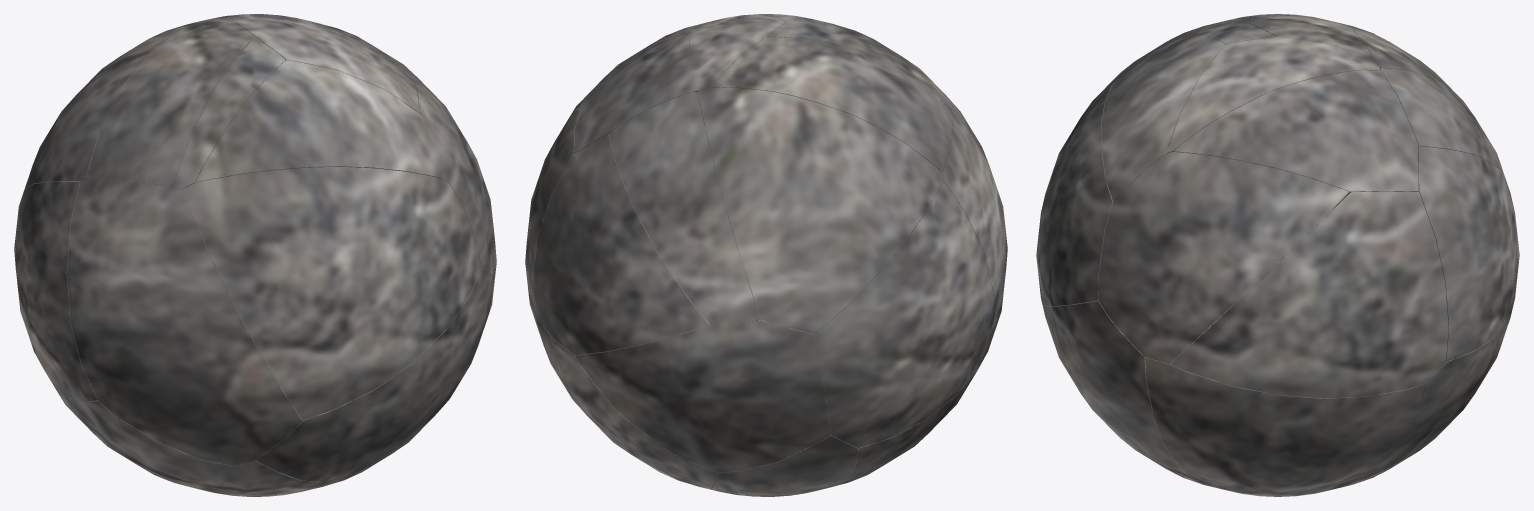
Rendered from stone_parts.glb.
3 renders of one model, left to right at view 1: azimuth 30°, elevation 25°; view 2: azimuth 150°, elevation 25°; view 3: azimuth 270°, elevation 25°, orthographic.
Parts seen in each view (by area): view 1: stone_ball_parts_cell.018, stone_ball_parts_cell.011, stone_ball_parts_cell.009, stone_ball_parts_cell.005, stone_ball_parts_cell.004, stone_ball_parts_cell.008, stone_ball_parts_cell.006, stone_ball_parts_cell.015, stone_ball_parts_cell.014, stone_ball_parts_cell.002, stone_ball_parts_cell.003, stone_ball_parts_cell.016 (+1 smaller); view 2: stone_ball_parts_cell.006, stone_ball_parts_cell.008, stone_ball_parts_cell.020, stone_ball_parts_cell.012, stone_ball_parts_cell.010, stone_ball_parts_cell.004, stone_ball_parts_cell.001, stone_ball_parts_cell.011, stone_ball_parts_cell.017, stone_ball_parts_cell, stone_ball_parts_cell.015, stone_ball_parts_cell.007 (+3 smaller); view 3: stone_ball_parts_cell.007, stone_ball_parts_cell.014, stone_ball_parts_cell.013, stone_ball_parts_cell.001, stone_ball_parts_cell.012, stone_ball_parts_cell.018, stone_ball_parts_cell.009, stone_ball_parts_cell.005, stone_ball_parts_cell.015, stone_ball_parts_cell.010, stone_ball_parts_cell.017, stone_ball_parts_cell.004 (+2 smaller).
Part boxes in pixels (x1,y1,x2,y2): stone_ball_parts_cell.018: (182,167,480,419); stone_ball_parts_cell.011: (67,177,302,465); stone_ball_parts_cell.009: (195,60,448,182); stone_ball_parts_cell.005: (256,267,494,481); stone_ball_parts_cell.004: (86,17,254,187); stone_ball_parts_cell.008: (14,181,97,401); stone_ball_parts_cell.006: (24,19,207,189); stone_ball_parts_cell.015: (218,14,421,113); stone_ball_parts_cell.014: (401,63,496,279); stone_ball_parts_cell.002: (57,391,232,491); stone_ball_parts_cell.003: (174,37,285,189); stone_ball_parts_cell.016: (210,460,354,496); stone_ball_parts_cell.006: (698,87,943,333); stone_ball_parts_cell.008: (814,180,993,448); stone_ball_parts_cell.020: (574,320,830,472); stone_ball_parts_cell.012: (533,134,709,354); stone_ball_parts_cell.010: (609,92,760,324); stone_ball_parts_cell.004: (711,36,952,171); stone_ball_parts_cell.001: (574,25,696,153); stone_ball_parts_cell.011: (942,109,1007,357); stone_ball_parts_cell.017: (536,317,718,489); stone_ball_parts_cell: (710,435,857,496); stone_ball_parts_cell.015: (689,14,787,92); stone_ball_parts_cell.007: (525,109,580,322); stone_ball_parts_cell.007: (1170,191,1448,398); stone_ball_parts_cell.014: (1098,152,1349,363); stone_ball_parts_cell.013: (1145,357,1425,495); stone_ball_parts_cell.001: (1173,70,1418,192); stone_ball_parts_cell.012: (1418,146,1519,361); stone_ball_parts_cell.018: (1036,67,1127,306); stone_ball_parts_cell.009: (1101,33,1225,201); stone_ball_parts_cell.005: (1043,301,1201,483); stone_ball_parts_cell.015: (1166,36,1380,153); stone_ball_parts_cell.010: (1380,67,1507,185); stone_ball_parts_cell.017: (1363,338,1494,480); stone_ball_parts_cell.004: (1227,14,1372,58).
Size of the model in its own units: 2 by 2 by 2.
1 material, 1 textured.
